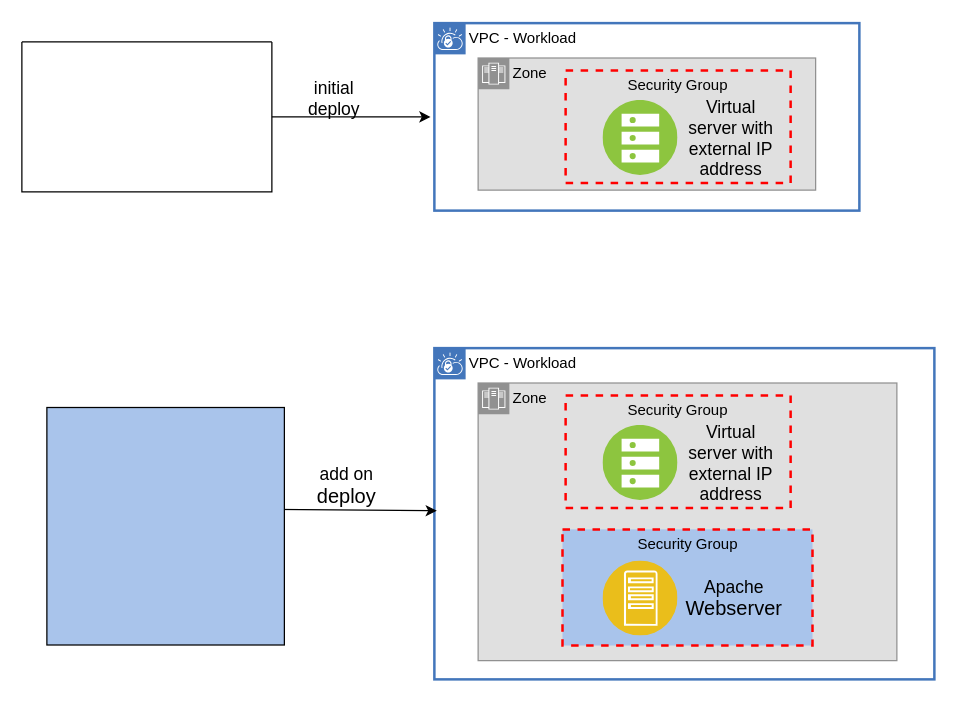
The diagram is 958 pixels wide and 701 high, and some of its shapes have lost their labels. Here are the shapes that lost their labels. From the top down, the centre of each, then its label:
the point at 146,116: Custom SLZ deployable architecture
the point at 165,525: Apache webserver extension deployable architecture
